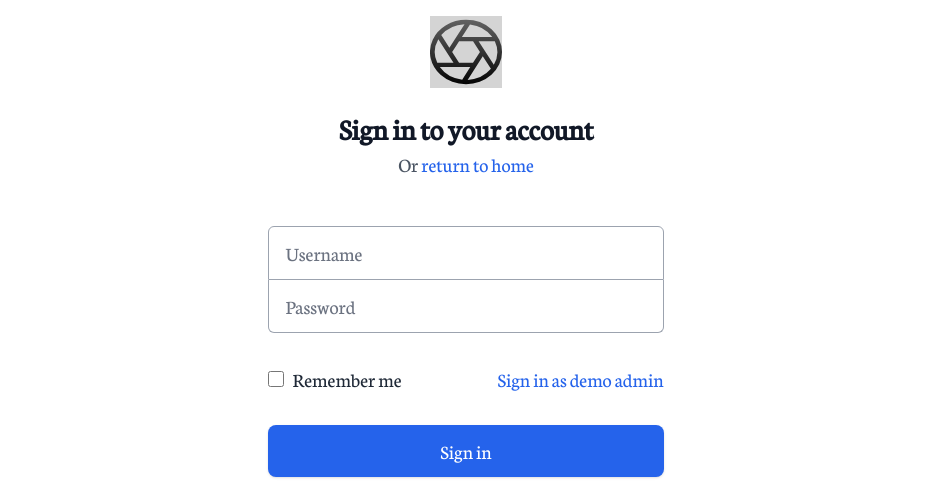
Login component › successful sign in should show alert success message
Type "fake username" into the field with placeholder "Username".
click(466, 253); type("fake username")  # box [268, 226, 664, 280]
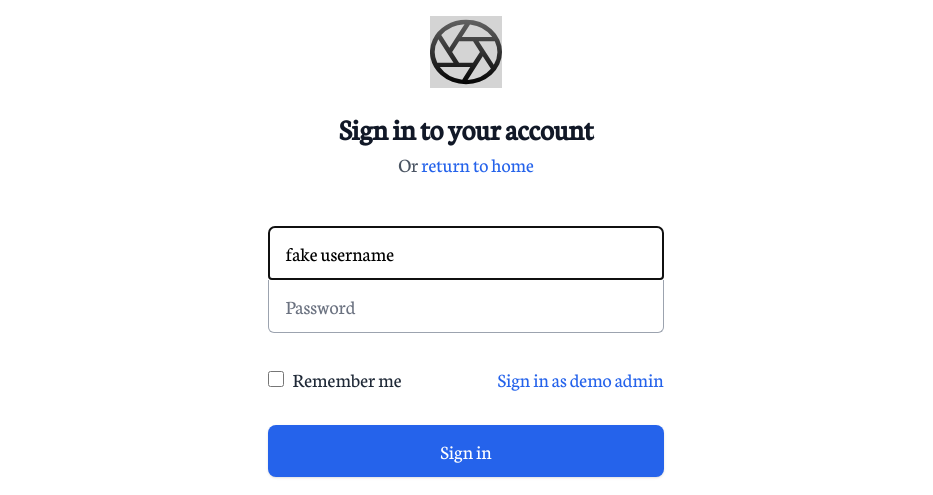
Type "fake password" into the password field with placeholder "Password".
click(466, 306); type("fake password")  # box [268, 280, 664, 333]
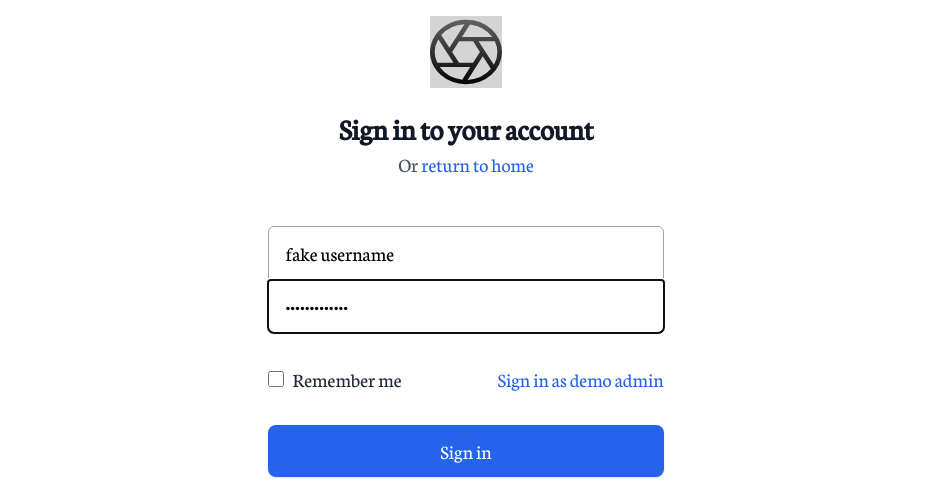
Click the button "Sign in".
click(466, 451)  # box [268, 425, 664, 477]
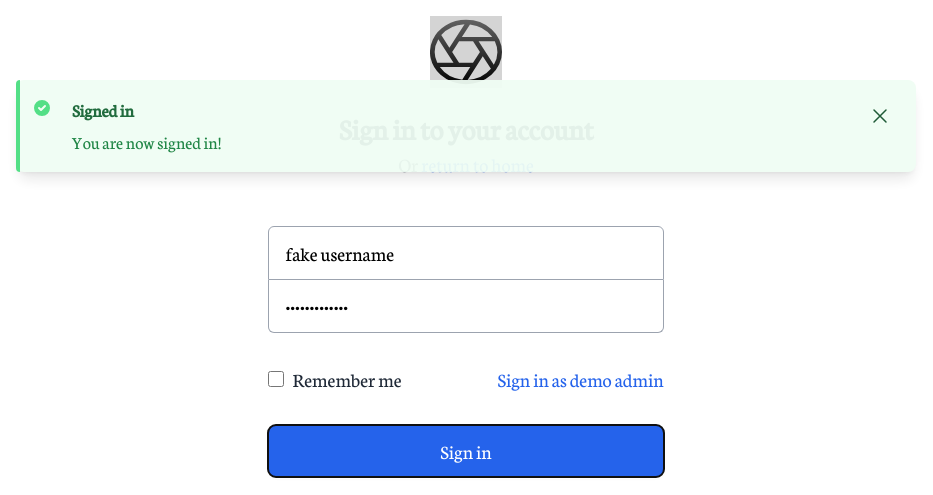
Expected: the message "Signed in You are now signed in!" is shown, [16, 80, 916, 172]
Expected: the text "You are now signed in!" is shown, [72, 128, 221, 156]
